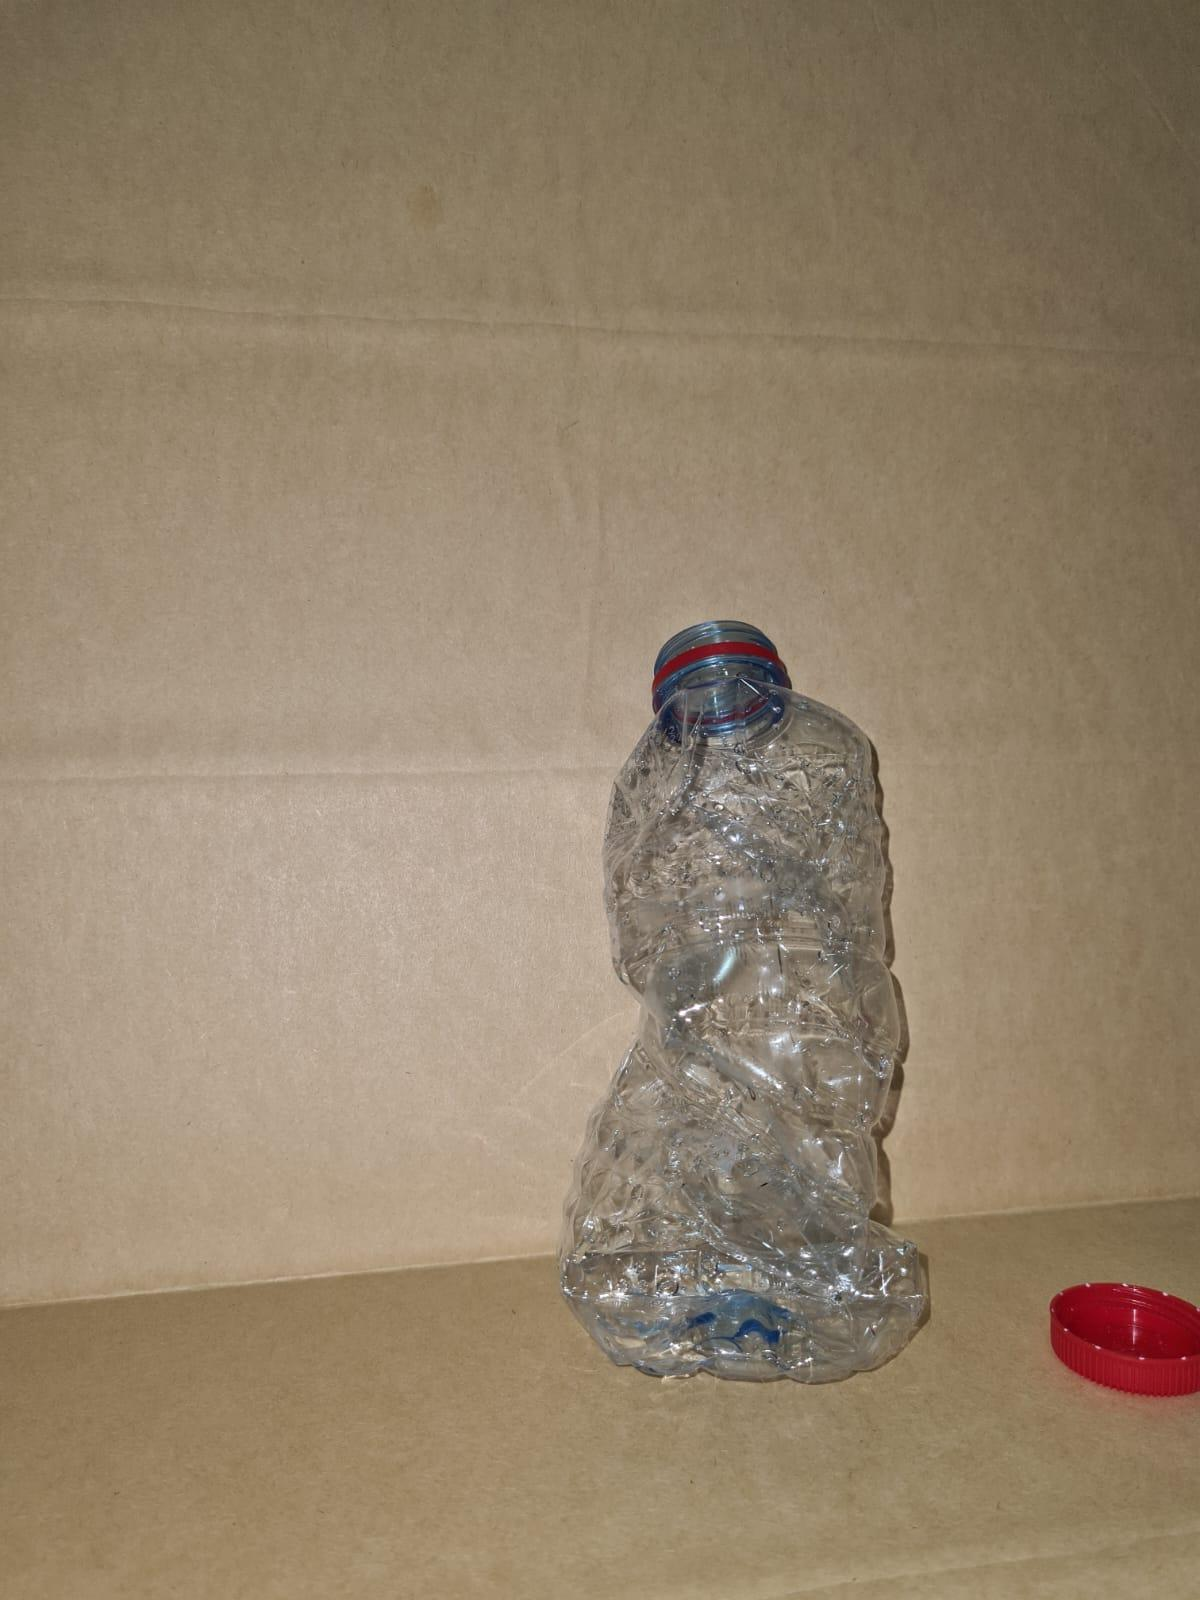bottle: (575, 625, 947, 1392)
